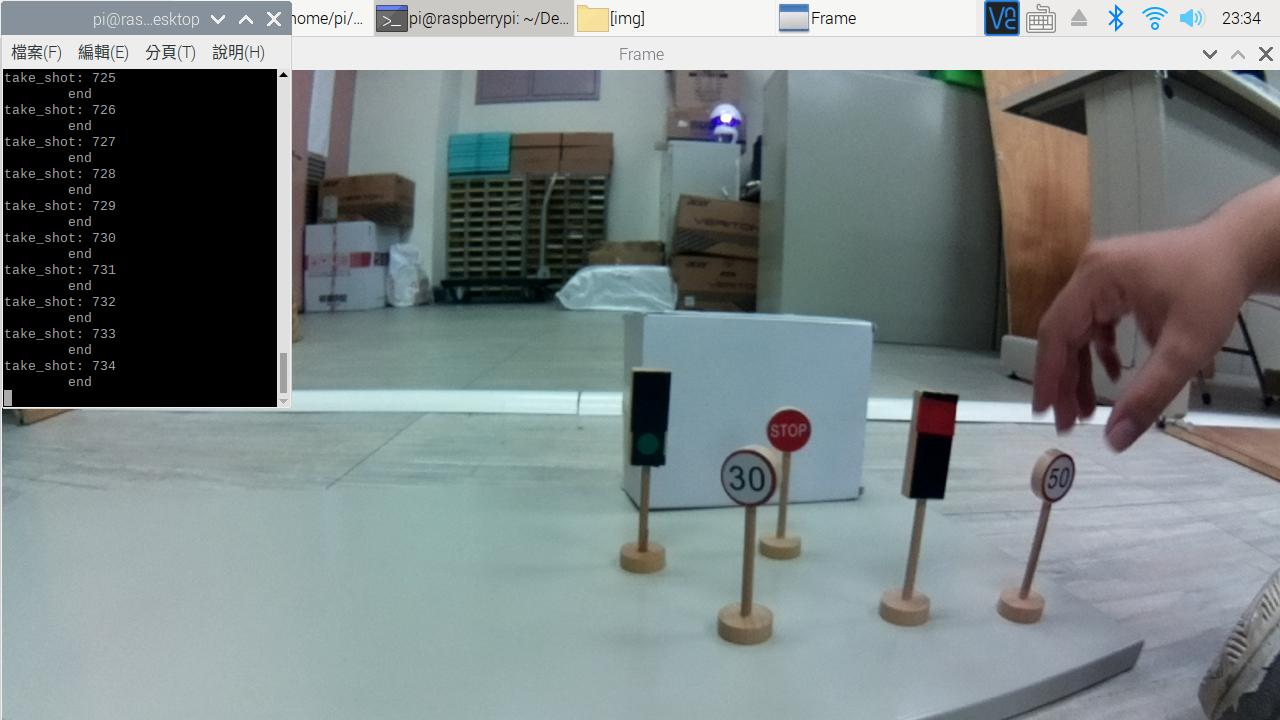Green: (629, 364, 669, 461)
Red: (899, 378, 963, 514)
Speed30: (721, 444, 776, 508)
Speed50: (1029, 448, 1087, 501)
Stop: (768, 401, 822, 464)
